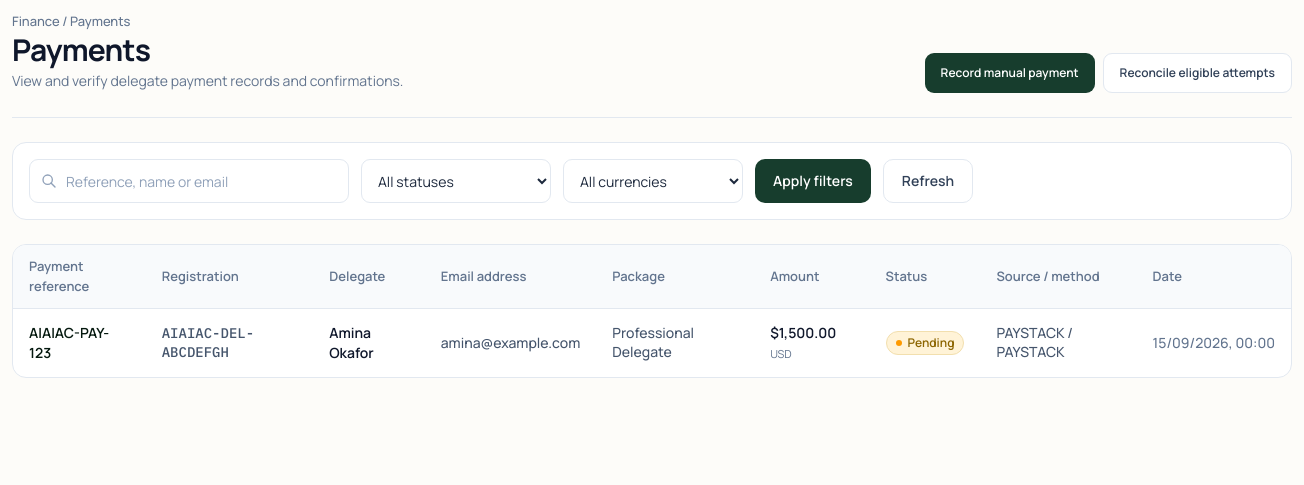
Test: admin payment table updates › replaces filtered results when a payment leaves the selected status
Expected: the text "Amina Okafor" is shown, [329, 323, 374, 362]
Select "PENDING" in the dropdown named "Payment status filter" at (456, 181), box [361, 159, 551, 203]
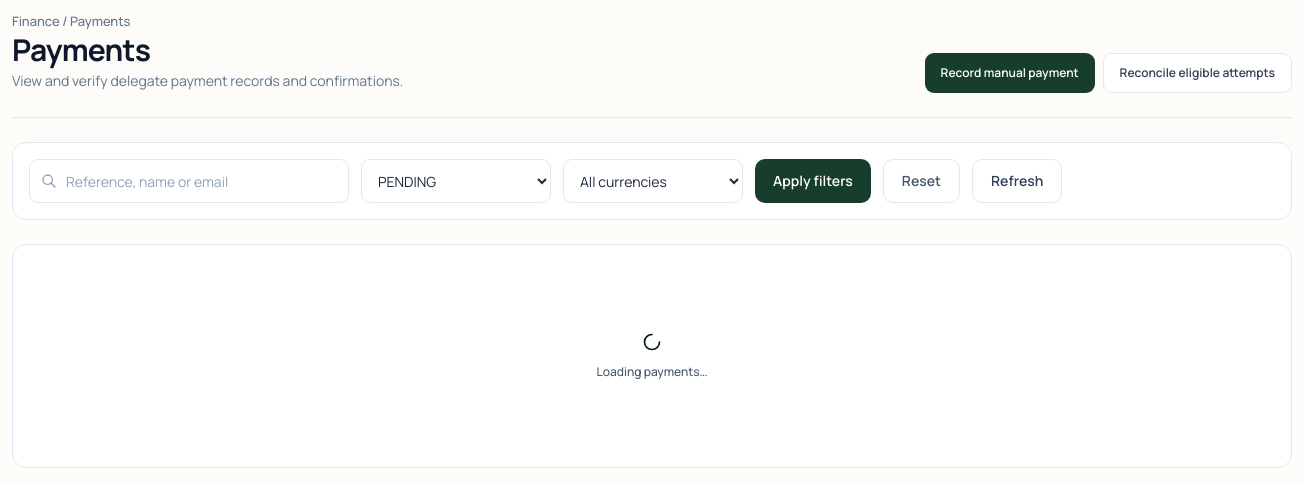
Click the button "Refresh" at (1017, 181), box [972, 159, 1062, 203]
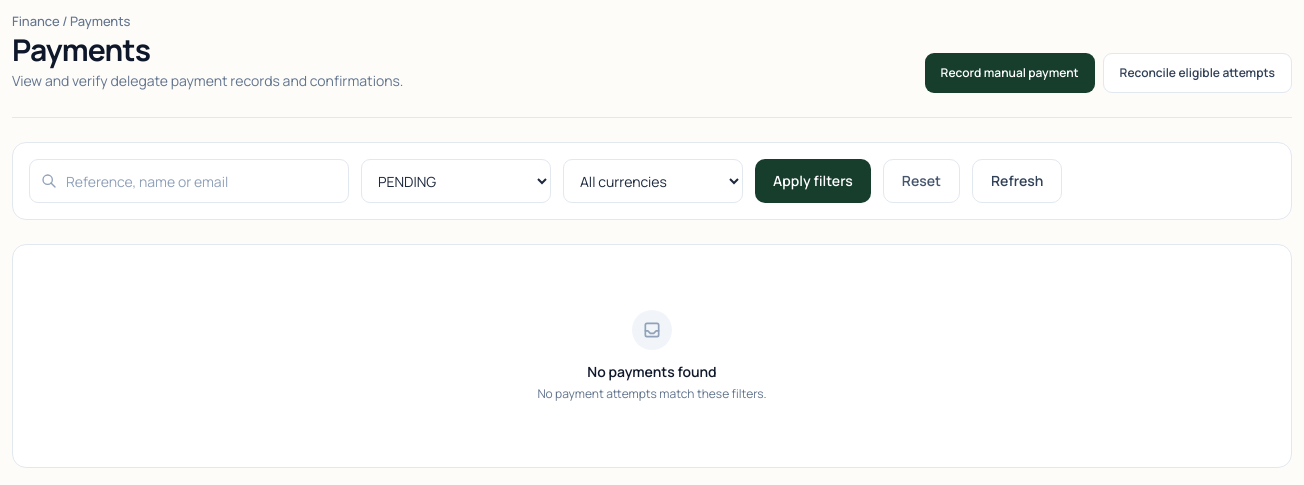
Expected: the text "No payments found" is shown, [587, 362, 717, 382]
